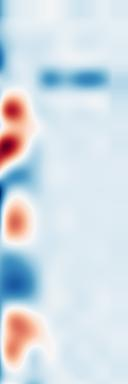filament: (0, 85, 40, 171)
